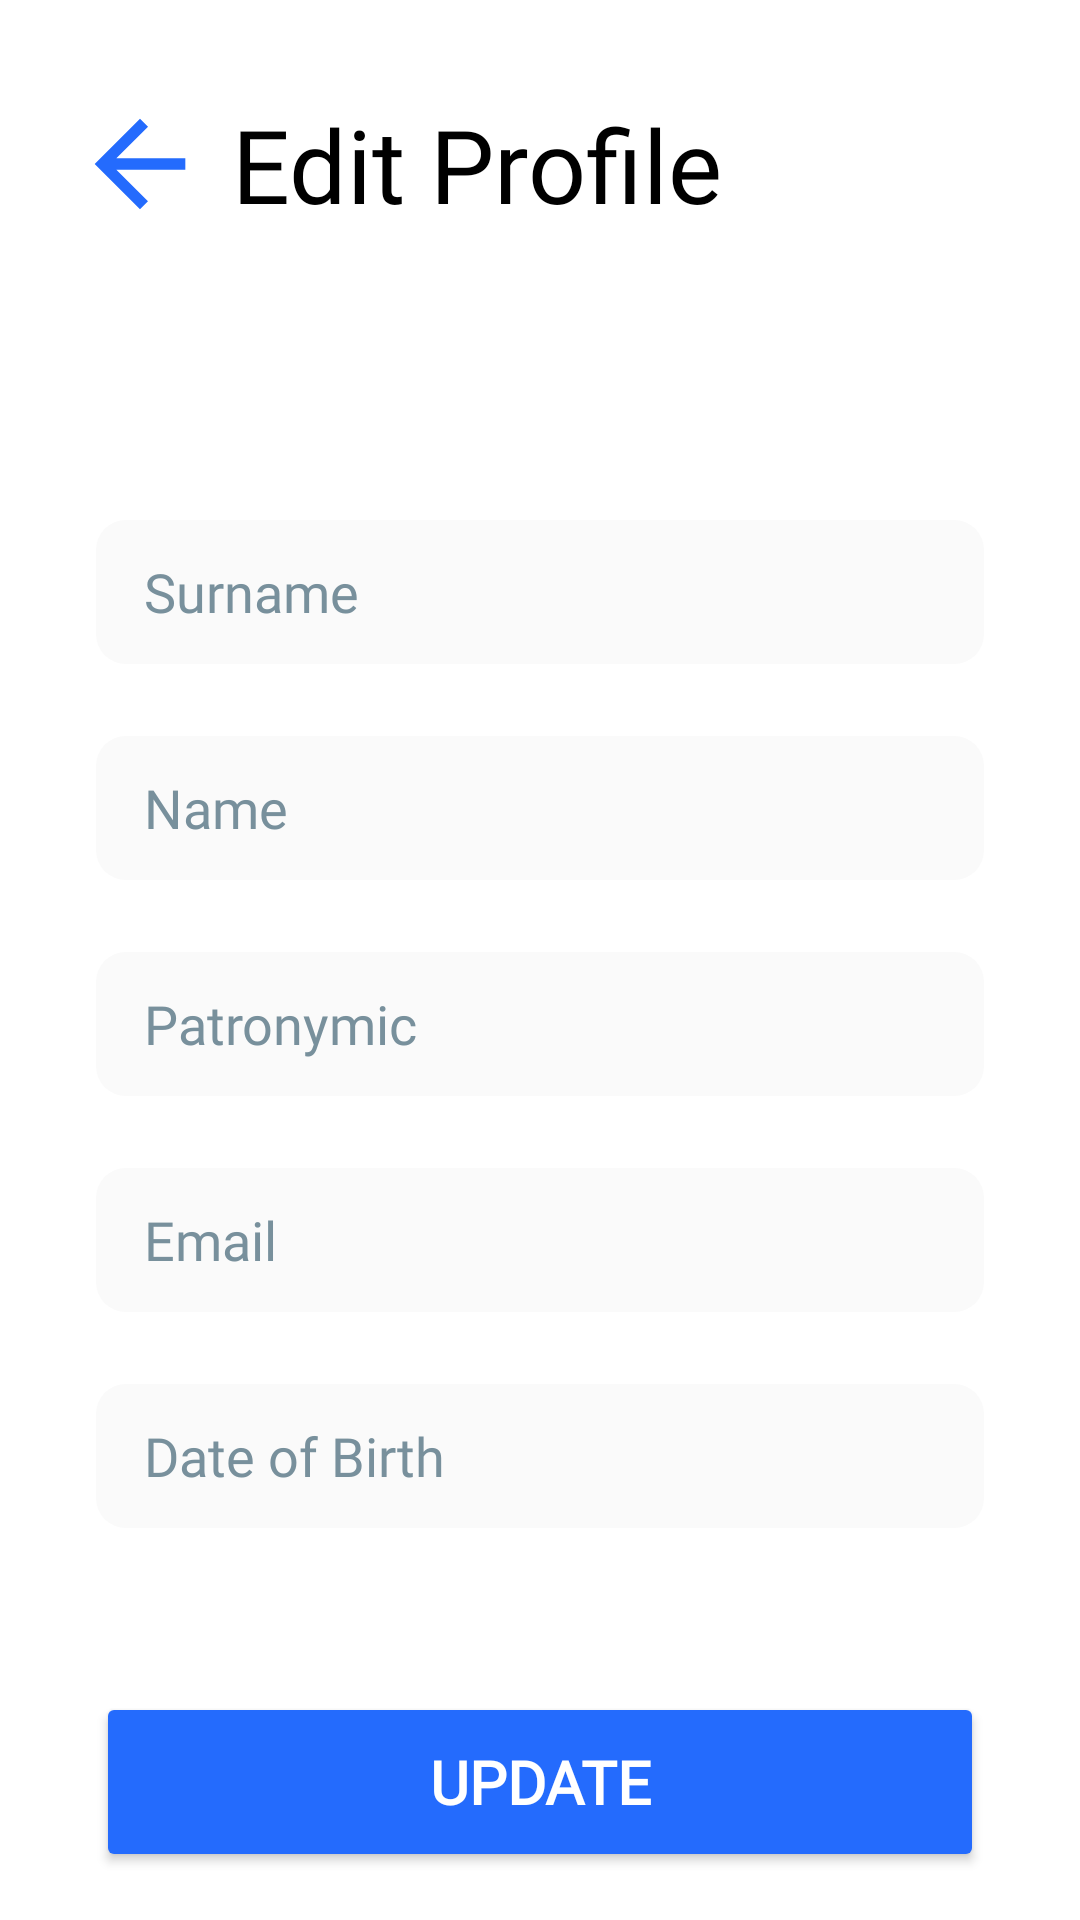

Screen size 1080×1920. Icon name, then its box in pixels as (x1, y1, x2, y2):
arrow back: (95, 119, 186, 209)
